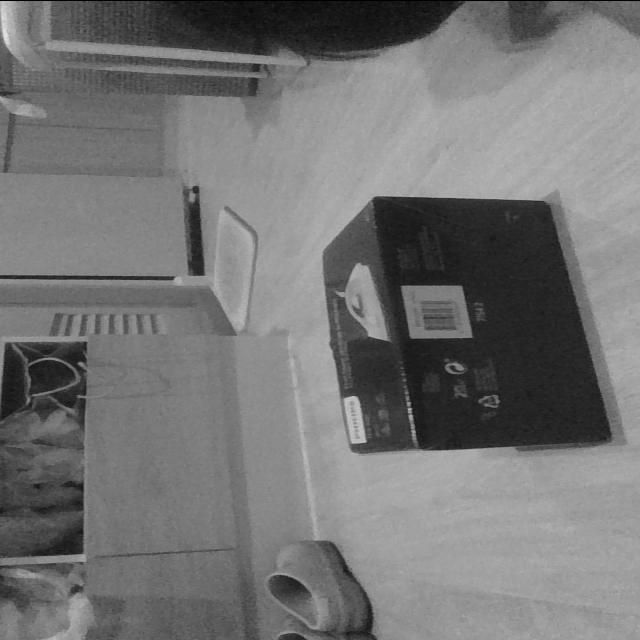IRON: (317, 193, 615, 457)
